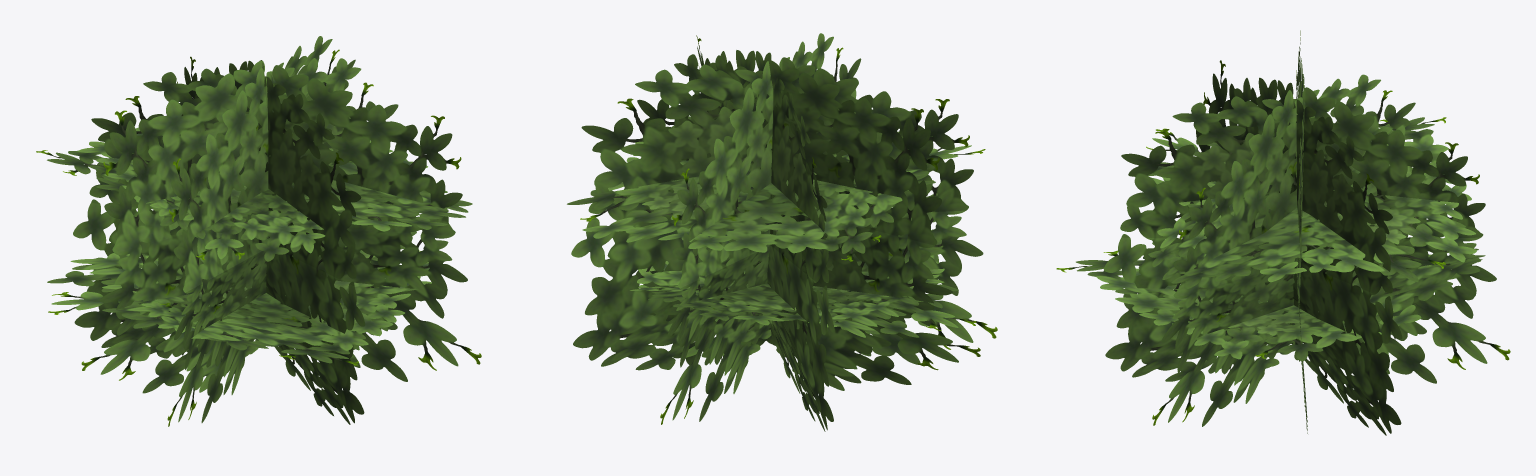
File: Bush 01.fbx
3 views of the same model, side by side, from view 1: azimuth 30°, elevation 25°; view 2: azimuth 150°, elevation 25°; view 3: azimuth 270°, elevation 25° (orthographic). The views are drawn at different scales.
Parts seen in each view (by area): view 1: Bush01; view 2: Bush01; view 3: Bush01.
Boxes of the visible parts, x1,y1,x2,y2 form: Bush01: (36,36,481,426); Bush01: (567,33,997,431); Bush01: (1056,30,1510,435).
Bounding box in the file's own units: 2.03 × 1.54 × 2.07.
Materials: 1 (1 with a texture image).
